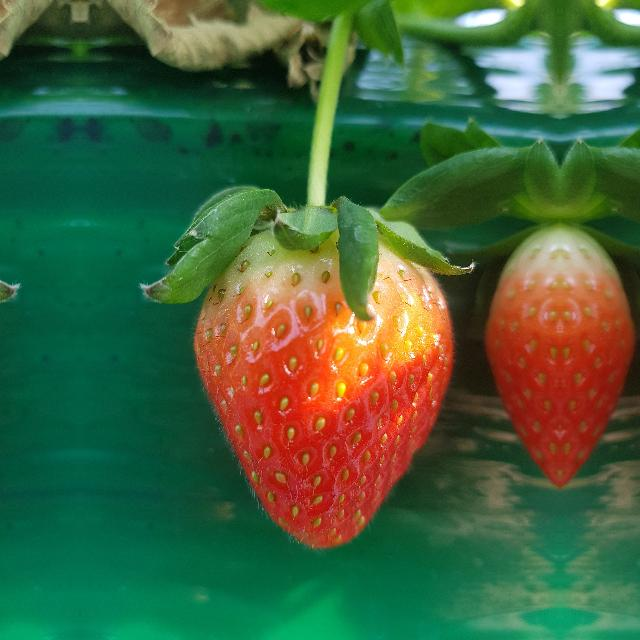Health_100: (192, 224, 456, 550)
